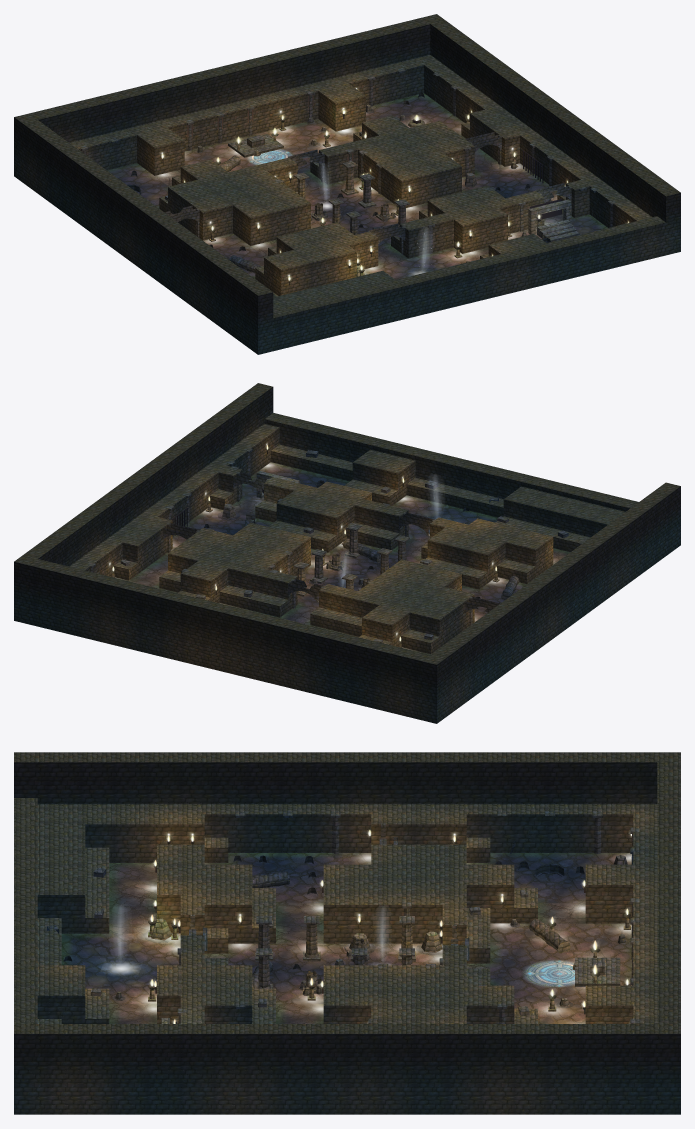
Rendered from level2.glb.
The picture shows the model from 3 angles, top to bottom: view 1: azimuth 30°, elevation 25°; view 2: azimuth 150°, elevation 25°; view 3: azimuth 270°, elevation 25°; orthographic projection. The views are drawn at different scales.
Visible parts, largest first — view 1: COL_WALL, FLOOR_DG, COL_CUT, FLOOR_DGB, FLOOR_POOL, COL_RUBBLE, FLOOR_WEAR, DECO_IRON, COL_ALTAR, DECO_STAIR; view 2: COL_WALL, FLOOR_DG, COL_CUT, FLOOR_DGB, COL_RUBBLE, FLOOR_WEAR; view 3: COL_WALL, FLOOR_DG, FLOOR_DGB, COL_CUT, COL_RUBBLE, FLOOR_POOL, FLOOR_WEAR, COL_ALTAR, FLOOR_MEDAL, FLOOR_SHAFT, DECO_IRON.
Part boxes in pixels (box(x1,y1,x2,y2)): COL_WALL: box(14, 14, 680, 354); FLOOR_DG: box(107, 93, 607, 279); COL_CUT: box(80, 68, 617, 276); FLOOR_DGB: box(155, 125, 574, 296); FLOOR_POOL: box(155, 120, 556, 274); COL_RUBBLE: box(131, 92, 551, 277); FLOOR_WEAR: box(112, 97, 594, 277); DECO_IRON: box(137, 114, 562, 285); COL_ALTAR: box(228, 134, 283, 157); DECO_STAIR: box(537, 219, 579, 241); COL_WALL: box(14, 383, 680, 723); FLOOR_DG: box(115, 462, 526, 654); COL_CUT: box(87, 447, 519, 647); FLOOR_DGB: box(129, 498, 569, 624); COL_RUBBLE: box(120, 450, 568, 642); FLOOR_WEAR: box(159, 470, 565, 617); COL_WALL: box(14, 752, 680, 1114); FLOOR_DG: box(61, 853, 631, 1023); FLOOR_DGB: box(109, 863, 585, 1023); COL_CUT: box(148, 811, 640, 1023); COL_RUBBLE: box(47, 840, 627, 1015); FLOOR_POOL: box(136, 853, 631, 1023); FLOOR_WEAR: box(72, 853, 631, 1023); COL_ALTAR: box(575, 957, 620, 986); FLOOR_MEDAL: box(522, 960, 574, 987); FLOOR_SHAFT: box(114, 906, 386, 959); DECO_IRON: box(148, 835, 632, 1023).
Size of the model in its own units: 56 by 7.73 by 56.
19 materials, 17 textured.
